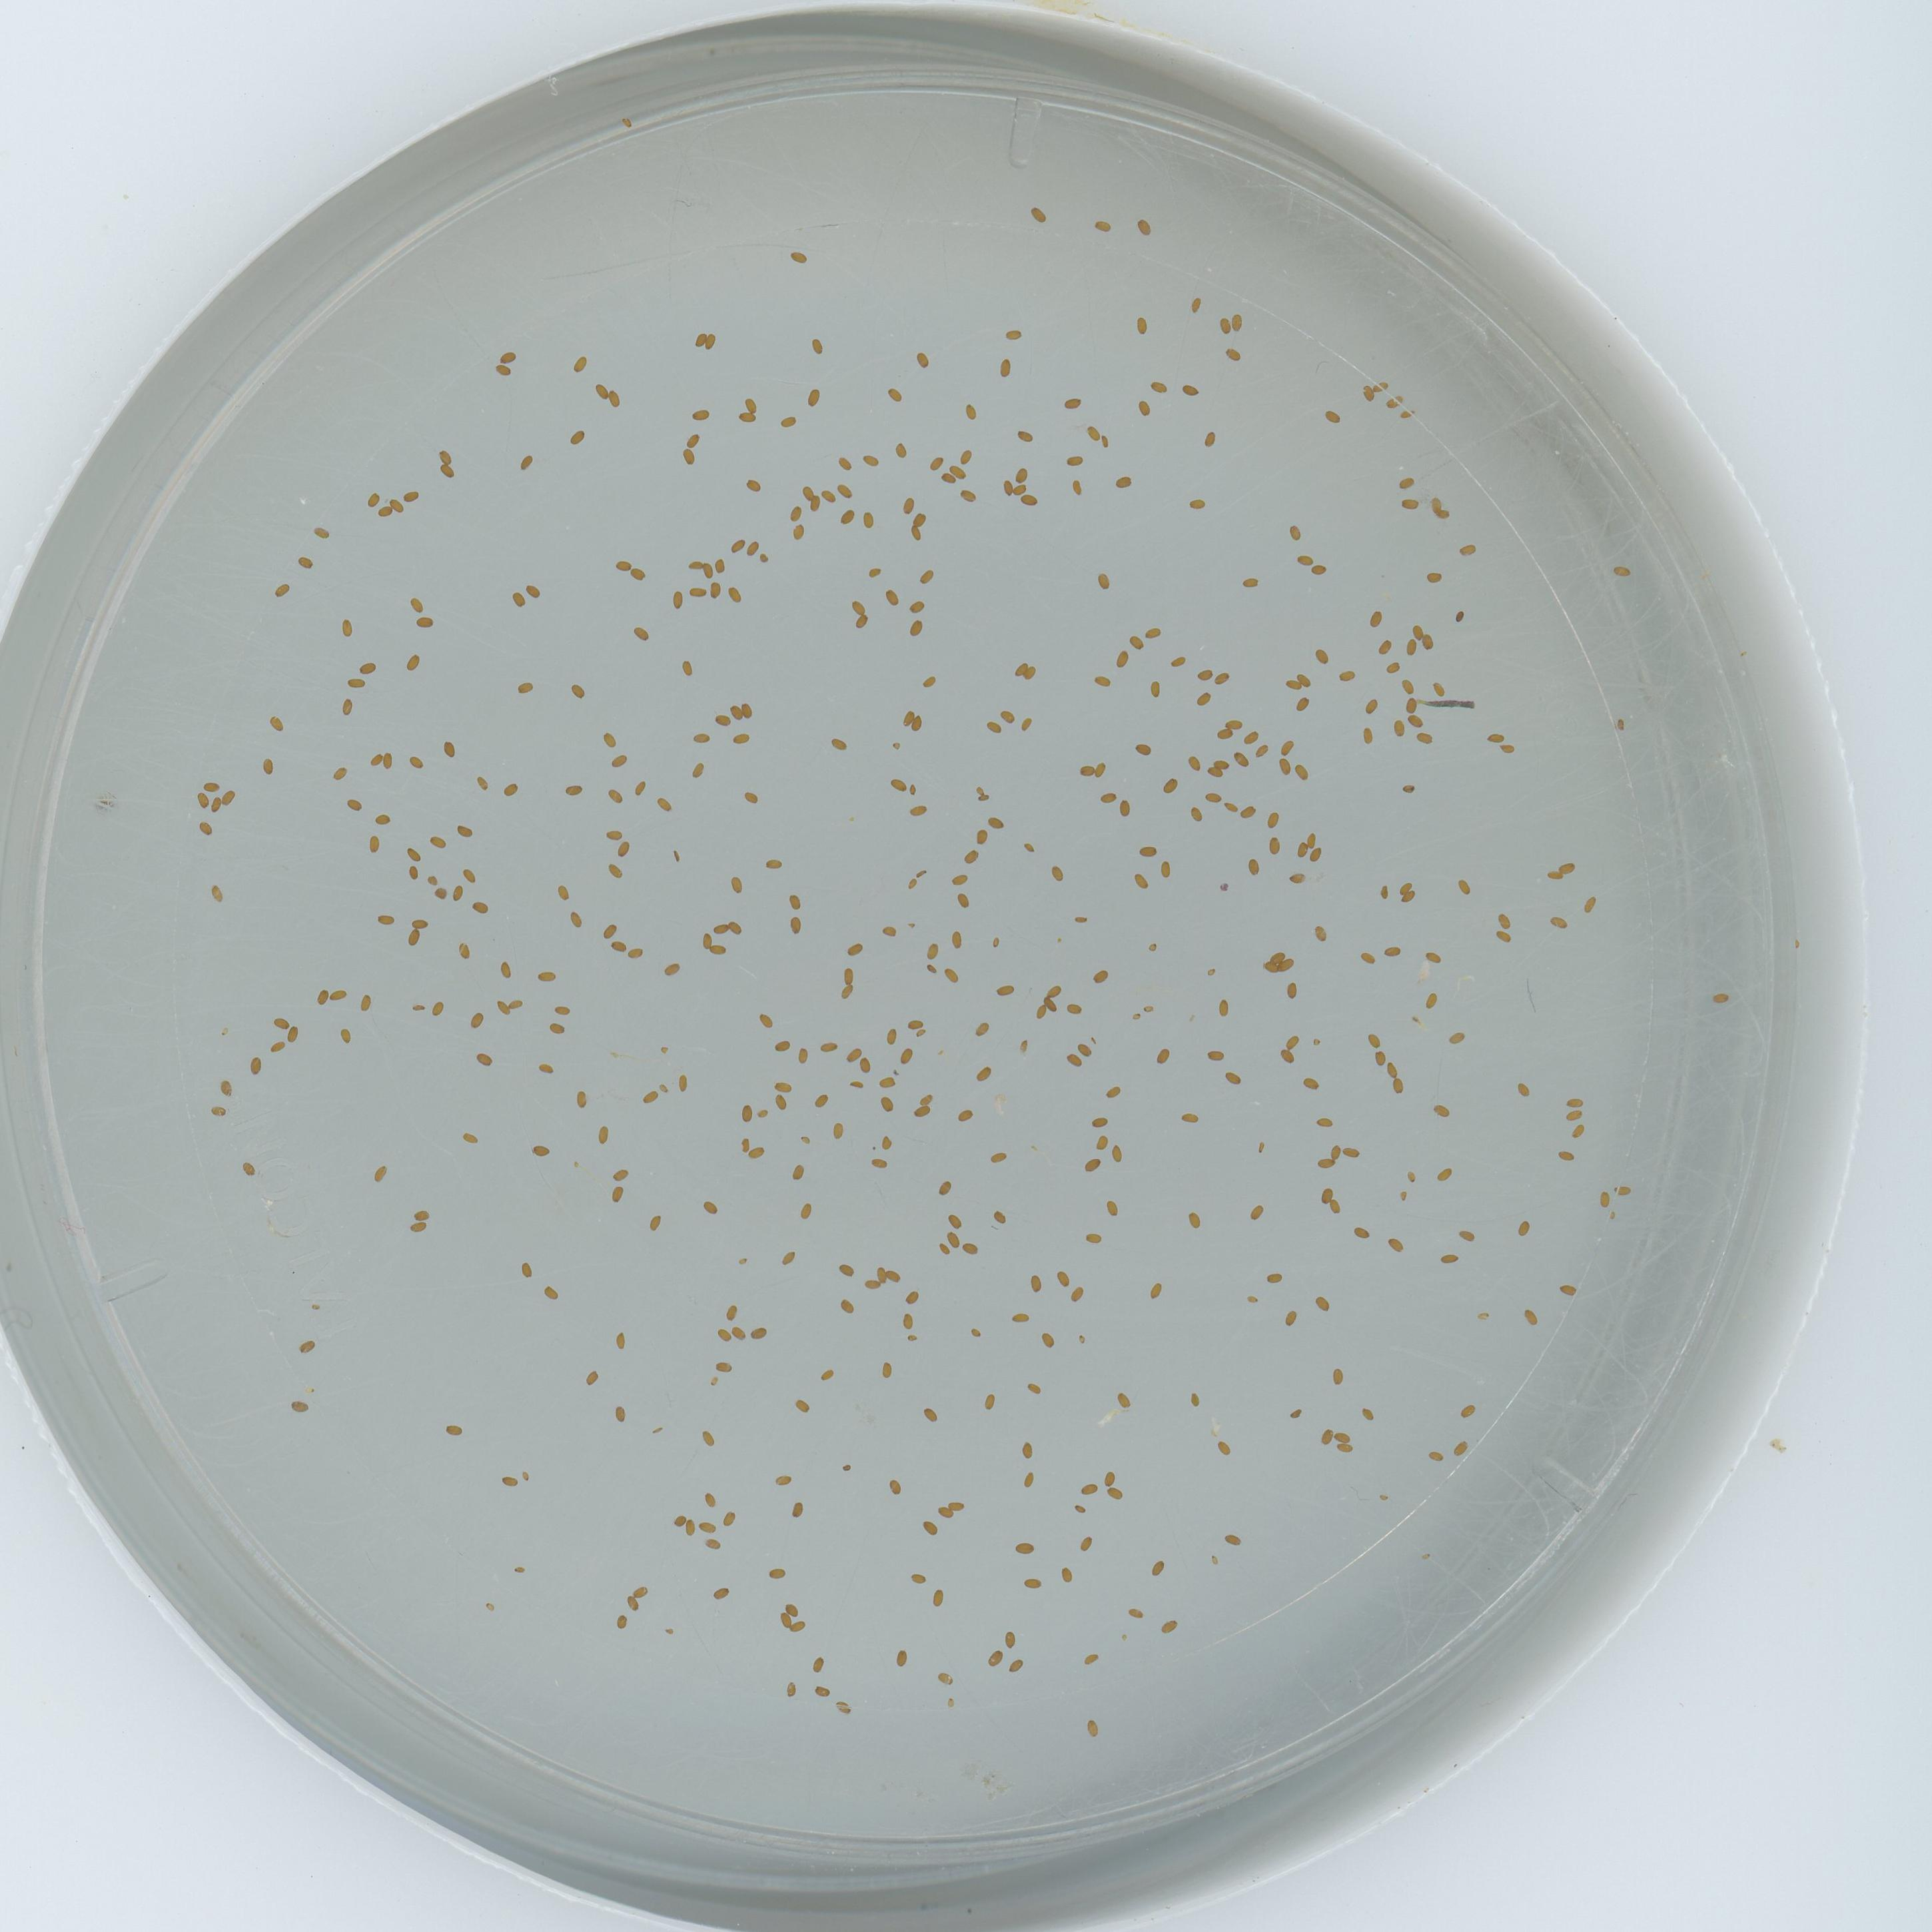seed: (786, 892, 807, 911), (218, 1077, 237, 1099), (288, 1394, 310, 1414), (955, 1106, 977, 1125), (1228, 748, 1249, 768), (1026, 202, 1046, 223), (471, 897, 490, 916), (568, 426, 587, 446), (787, 502, 807, 522), (906, 617, 925, 637), (531, 1139, 550, 1159), (674, 1074, 694, 1093), (1134, 396, 1154, 416), (1111, 649, 1131, 669), (1115, 798, 1134, 817), (975, 1063, 994, 1083), (1076, 1039, 1095, 1058), (414, 614, 435, 632), (957, 446, 975, 467), (246, 1053, 262, 1076), (957, 488, 980, 504), (405, 596, 425, 614), (357, 660, 377, 678), (632, 625, 651, 642), (564, 780, 584, 798), (885, 587, 904, 605), (727, 878, 747, 895), (805, 387, 824, 405), (862, 510, 879, 529), (791, 246, 810, 264), (403, 655, 423, 672), (787, 915, 805, 934), (954, 890, 971, 909), (879, 1134, 899, 1152), (713, 1583, 731, 1603), (1265, 837, 1284, 855), (1146, 377, 1166, 395), (1159, 777, 1178, 794), (996, 356, 1014, 375), (1131, 315, 1150, 333), (962, 849, 982, 867), (1076, 761, 1093, 780), (1079, 1479, 1099, 1497), (1522, 1307, 1541, 1325), (1053, 1269, 1072, 1286), (1148, 1557, 1166, 1576), (1152, 1044, 1171, 1062), (1024, 1274, 1042, 1293), (1612, 1182, 1633, 1198), (600, 920, 617, 938), (901, 495, 918, 513), (410, 913, 428, 931), (605, 824, 623, 842), (338, 699, 356, 717), (570, 683, 587, 701), (363, 837, 380, 855), (524, 582, 541, 600), (610, 936, 628, 954), (591, 380, 609, 398), (600, 731, 617, 748), (258, 759, 276, 777), (832, 736, 849, 754), (439, 741, 456, 759), (566, 909, 584, 927), (191, 793, 209, 810), (727, 586, 745, 603), (571, 354, 589, 372), (692, 405, 709, 423), (950, 462, 968, 479), (902, 1286, 920, 1304), (356, 993, 373, 1010), (775, 1035, 793, 1053), (720, 1509, 738, 1527), (893, 1649, 911, 1667), (773, 1092, 791, 1109), (775, 1076, 793, 1093), (839, 1295, 856, 1313), (731, 1322, 748, 1339), (372, 1164, 389, 1182), (474, 1047, 492, 1065), (929, 1589, 947, 1606), (879, 1093, 897, 1111), (724, 1302, 741, 1320), (518, 1260, 536, 1277), (1311, 648, 1329, 665), (973, 828, 991, 846), (1012, 464, 1030, 481), (1132, 872, 1150, 890), (1338, 667, 1355, 685), (1047, 865, 1065, 883), (1093, 571, 1111, 589), (1143, 623, 1161, 640), (1495, 911, 1513, 929), (1359, 727, 1376, 745), (1246, 860, 1263, 878), (1125, 633, 1143, 651), (1293, 695, 1311, 713), (1003, 324, 1021, 341), (1062, 393, 1079, 410), (1341, 1141, 1359, 1159), (1224, 1530, 1242, 1548), (1083, 1154, 1100, 1171), (1104, 1484, 1122, 1502), (1145, 1281, 1162, 1299), (1115, 1389, 1132, 1407), (1458, 1224, 1476, 1242), (1019, 1440, 1037, 1458), (1083, 1720, 1100, 1737), (1076, 1534, 1093, 1552), (985, 1649, 1003, 1667), (1329, 1366, 1346, 1384), (1447, 1026, 1465, 1044), (1092, 1132, 1109, 1150), (991, 1207, 1008, 1224), (621, 115, 639, 133), (731, 731, 750, 747), (515, 679, 534, 695), (839, 508, 858, 524), (338, 617, 354, 637), (614, 842, 633, 858), (403, 846, 423, 862), (405, 929, 421, 948), (920, 1520, 939, 1536), (885, 1026, 904, 1042), (897, 1047, 916, 1063), (663, 961, 683, 977), (285, 1024, 301, 1044), (844, 1044, 863, 1060), (814, 1092, 833, 1108), (740, 1102, 755, 1122), (945, 1231, 961, 1251), (998, 708, 1017, 724), (1240, 729, 1260, 745), (1138, 842, 1157, 858), (1014, 426, 1033, 442), (1550, 913, 1569, 929), (1394, 474, 1414, 490), (1113, 472, 1132, 488), (1398, 678, 1417, 694), (1014, 1539, 1033, 1555), (1214, 1438, 1233, 1454), (1205, 1044, 1224, 1060), (1054, 1566, 1074, 1582), (1159, 1617, 1178, 1633), (1001, 1629, 1017, 1649), (1557, 1279, 1576, 1295), (1385, 1237, 1405, 1253), (347, 678, 370, 690), (202, 778, 219, 794), (679, 449, 697, 465), (694, 729, 711, 745), (888, 386, 906, 402), (437, 448, 455, 464), (375, 810, 393, 826), (345, 796, 363, 812), (295, 554, 313, 570), (883, 922, 901, 938), (499, 347, 517, 363), (890, 777, 908, 793), (671, 591, 686, 609), (269, 717, 287, 732), (407, 754, 425, 770), (743, 396, 761, 412), (377, 909, 395, 925), (510, 593, 527, 609), (272, 582, 290, 598), (403, 865, 421, 881), (679, 660, 697, 676), (916, 568, 934, 584), (867, 564, 885, 580), (656, 796, 674, 812), (610, 754, 628, 770), (460, 869, 478, 885), (837, 483, 855, 499), (780, 412, 798, 428), (449, 886, 467, 902), (195, 821, 212, 837), (766, 856, 784, 872), (847, 939, 865, 955), (607, 789, 625, 805), (715, 713, 732, 729), (747, 478, 764, 494), (699, 932, 715, 950), (685, 432, 702, 448), (428, 833, 446, 849), (455, 823, 472, 839), (439, 464, 456, 479), (455, 943, 472, 959), (708, 580, 724, 598), (607, 863, 625, 879), (607, 389, 623, 407), (909, 715, 927, 731), (311, 524, 329, 540), (823, 488, 840, 504), (948, 931, 964, 948), (908, 524, 924, 541), (446, 1421, 462, 1438), (789, 1162, 807, 1178), (770, 1566, 787, 1582), (858, 1056, 876, 1072), (699, 1516, 717, 1532), (501, 1472, 518, 1488), (715, 1359, 732, 1375), (428, 998, 446, 1014), (872, 1154, 890, 1169), (881, 1072, 899, 1088), (901, 1313, 918, 1329), (609, 1185, 626, 1201), (906, 1014, 924, 1030), (625, 1594, 640, 1612), (699, 1431, 717, 1447), (821, 1037, 839, 1053), (782, 1247, 798, 1265), (798, 1201, 816, 1217), (612, 1405, 628, 1422), (612, 1166, 630, 1182), (922, 1405, 939, 1421), (812, 1656, 828, 1674), (271, 1014, 288, 1030), (642, 1088, 660, 1104), (839, 1260, 856, 1276), (918, 1090, 936, 1106), (575, 1088, 591, 1106), (759, 1012, 777, 1028), (879, 1361, 895, 1378), (791, 1500, 807, 1518), (715, 1325, 732, 1341), (702, 1198, 720, 1214), (819, 1366, 837, 1382), (794, 1394, 810, 1412), (941, 966, 959, 982), (594, 1125, 612, 1141), (299, 1336, 317, 1352), (798, 1131, 816, 1146), (1288, 872, 1306, 888), (1376, 639, 1394, 655), (1063, 451, 1081, 467), (1099, 789, 1116, 805), (1194, 690, 1212, 706), (1196, 665, 1214, 681), (1083, 425, 1099, 442), (1263, 812, 1281, 828), (1274, 759, 1292, 775), (1295, 550, 1313, 566), (1185, 807, 1203, 823), (1224, 345, 1242, 361), (1486, 729, 1504, 745), (1375, 885, 1392, 901), (1311, 924, 1327, 941), (1203, 791, 1221, 807), (1384, 941, 1401, 957), (1407, 713, 1424, 729), (1426, 568, 1444, 584), (1185, 755, 1203, 771), (985, 718, 1003, 734), (1155, 862, 1173, 878), (1415, 731, 1433, 747), (1187, 495, 1205, 511), (987, 816, 1005, 832), (1456, 879, 1472, 897), (1238, 803, 1256, 819), (1384, 660, 1401, 676), (1276, 740, 1293, 755), (1458, 541, 1476, 557), (1283, 678, 1300, 694), (1224, 715, 1242, 731), (1145, 681, 1162, 697), (1495, 929, 1513, 945), (1253, 743, 1270, 759), (1323, 407, 1341, 423), (1292, 764, 1309, 780), (1132, 218, 1150, 234), (1566, 1092, 1583, 1108), (1007, 1660, 1024, 1675), (1283, 1033, 1300, 1049), (1100, 1198, 1118, 1214), (1021, 1470, 1039, 1486), (1023, 1576, 1040, 1592), (1451, 1440, 1468, 1456), (1458, 1403, 1476, 1419), (1369, 1049, 1387, 1065), (1313, 1293, 1330, 1309), (996, 982, 1014, 998), (1223, 1067, 1240, 1083), (1300, 1074, 1318, 1090), (1023, 1378, 1040, 1394), (1070, 1500, 1088, 1516), (1010, 1307, 1028, 1323), (1180, 1108, 1198, 1123), (1081, 1651, 1099, 1667), (1440, 1251, 1458, 1267), (1283, 982, 1300, 998), (1099, 1470, 1116, 1486), (1596, 1191, 1614, 1207), (1083, 1228, 1100, 1244), (1437, 1164, 1454, 1180), (1247, 1203, 1265, 1219), (1037, 1330, 1054, 1346), (1422, 993, 1440, 1008), (1384, 1060, 1401, 1076), (1185, 1210, 1201, 1228), (1389, 1076, 1405, 1093), (1514, 1219, 1532, 1235), (1315, 1113, 1332, 1129), (1214, 996, 1230, 1014), (1072, 913, 1090, 929), (1017, 840, 1035, 856), (1426, 495, 1444, 511), (1435, 508, 1453, 524), (1017, 1039, 1033, 1056), (950, 872, 970, 886), (709, 941, 729, 955), (1260, 961, 1281, 973), (911, 803, 927, 819), (908, 598, 924, 614), (632, 780, 648, 796), (729, 538, 745, 554), (495, 361, 511, 377), (432, 885, 448, 901), (502, 782, 518, 798), (474, 775, 490, 791), (741, 702, 757, 718), (364, 490, 380, 506), (929, 453, 945, 469), (518, 453, 534, 469), (810, 338, 826, 354), (556, 886, 571, 902), (747, 540, 763, 556), (922, 674, 938, 690), (893, 442, 909, 458), (630, 566, 646, 582), (911, 511, 927, 527), (706, 333, 722, 349), (729, 918, 745, 934), (793, 524, 809, 540), (924, 943, 939, 959), (839, 455, 855, 471), (855, 614, 870, 630), (915, 350, 931, 366), (692, 763, 708, 778), (800, 483, 816, 499), (331, 985, 347, 1001), (614, 1614, 630, 1629), (554, 1001, 570, 1017), (462, 1127, 478, 1143), (313, 989, 329, 1005), (471, 1012, 487, 1028), (648, 1214, 663, 1230), (936, 1178, 952, 1194), (548, 1019, 564, 1035), (738, 1136, 754, 1152), (909, 1571, 925, 1587), (947, 1212, 962, 1228), (888, 1479, 904, 1495), (612, 1330, 628, 1346), (796, 1046, 812, 1062), (706, 1536, 722, 1552), (211, 1100, 226, 1116), (936, 1670, 952, 1686), (241, 1159, 257, 1175), (750, 1323, 766, 1339), (338, 1026, 354, 1042), (633, 1582, 649, 1598), (495, 1000, 511, 1016), (842, 968, 858, 984), (784, 1683, 800, 1698), (702, 1491, 718, 1507), (538, 1058, 554, 1074), (755, 1104, 771, 1120), (543, 1283, 559, 1299), (777, 1470, 793, 1486), (1093, 672, 1109, 688), (1362, 699, 1378, 715), (1453, 607, 1468, 623), (1286, 525, 1302, 541), (1421, 633, 1437, 649), (1403, 640, 1419, 656), (1361, 386, 1376, 402), (1292, 842, 1307, 858), (1242, 573, 1258, 589), (1214, 671, 1230, 686), (1230, 313, 1246, 329), (1017, 717, 1033, 732), (1304, 833, 1320, 849), (1200, 432, 1215, 448), (1134, 741, 1150, 757), (1093, 216, 1109, 232), (1560, 860, 1576, 876), (1092, 761, 1108, 777), (1368, 612, 1384, 628), (1580, 895, 1596, 911), (1297, 671, 1313, 686), (987, 934, 1003, 950), (1384, 395, 1399, 410), (1279, 957, 1295, 973), (1316, 1187, 1332, 1203), (1366, 1031, 1382, 1047), (1109, 1145, 1125, 1161), (1433, 1100, 1449, 1116), (1325, 1141, 1341, 1157), (975, 1019, 991, 1035), (1092, 968, 1108, 984), (1316, 1428, 1332, 1444), (1104, 1083, 1120, 1099), (1090, 1111, 1106, 1127), (1069, 1284, 1085, 1300), (1125, 1605, 1141, 1621), (1283, 1309, 1299, 1325), (1185, 1391, 1201, 1407), (991, 1146, 1007, 1162), (1063, 1051, 1079, 1067), (510, 1560, 525, 1576), (1476, 1309, 1491, 1325), (1246, 1293, 1261, 1309), (1614, 563, 1629, 579), (916, 1026, 932, 1042), (402, 488, 419, 502), (851, 600, 869, 614), (713, 920, 731, 934), (207, 886, 225, 901), (901, 709, 915, 727), (331, 766, 349, 780), (688, 586, 706, 600), (364, 754, 382, 768), (410, 1219, 428, 1233), (267, 1037, 285, 1051), (412, 1205, 430, 1219), (913, 1104, 931, 1118), (538, 968, 556, 982), (936, 1506, 954, 1520), (849, 1076, 867, 1090), (837, 1702, 855, 1716), (1399, 497, 1417, 511), (1424, 948, 1442, 962), (1499, 741, 1516, 755), (1389, 722, 1407, 736), (1215, 315, 1230, 333), (1307, 849, 1325, 863), (1207, 766, 1224, 780), (1065, 479, 1083, 494), (1359, 948, 1376, 962), (1215, 729, 1233, 743), (1180, 382, 1198, 396), (1169, 655, 1187, 669), (1221, 801, 1238, 816), (1545, 870, 1562, 885), (1044, 982, 1062, 996), (1316, 1155, 1334, 1169), (1353, 1224, 1371, 1238), (1279, 1047, 1293, 1065), (1564, 1106, 1582, 1120), (1265, 1270, 1283, 1284), (1568, 1122, 1585, 1136), (1713, 989, 1730, 1003), (832, 1120, 844, 1139), (874, 1263, 886, 1283), (1212, 757, 1231, 770), (1001, 478, 1014, 497), (616, 557, 632, 571), (423, 874, 439, 888), (628, 945, 644, 959), (863, 453, 879, 467), (729, 704, 743, 720), (694, 331, 708, 347), (743, 791, 759, 805), (219, 791, 235, 805), (380, 754, 395, 770), (389, 499, 405, 513), (686, 556, 702, 570), (699, 563, 715, 577), (740, 410, 755, 425), (508, 996, 524, 1010), (586, 1369, 602, 1384), (777, 1614, 793, 1628), (672, 1511, 686, 1527), (948, 1497, 964, 1511), (816, 1684, 832, 1698), (791, 1621, 807, 1635), (839, 984, 855, 998), (888, 1269, 904, 1283), (787, 1601, 801, 1617), (750, 1145, 766, 1159), (685, 1520, 699, 1536), (936, 1238, 950, 1254), (410, 1000, 426, 1014), (1401, 699, 1417, 713), (1021, 494, 1037, 508), (1187, 295, 1203, 310), (966, 405, 980, 421), (1408, 623, 1424, 637), (1311, 563, 1327, 577), (1430, 681, 1445, 695), (1269, 948, 1284, 962), (1024, 663, 1039, 679), (1375, 377, 1391, 391), (1359, 1407, 1375, 1421), (1559, 1146, 1575, 1161), (1516, 1081, 1532, 1095), (1327, 1198, 1343, 1212), (1334, 1428, 1350, 1442), (1403, 1168, 1419, 1182), (1065, 1000, 1081, 1014), (1428, 1447, 1444, 1461), (1044, 998, 1060, 1012), (1286, 1405, 1302, 1419), (982, 1394, 998, 1408), (1031, 1003, 1047, 1017), (1074, 1330, 1088, 1346), (1208, 1553, 1223, 1569), (1605, 1208, 1619, 1224), (922, 961, 938, 975), (939, 472, 957, 485), (1401, 892, 1419, 904), (207, 798, 221, 812), (715, 557, 729, 571), (377, 504, 391, 518), (904, 782, 918, 796), (810, 497, 824, 511), (906, 878, 920, 892), (499, 966, 513, 980), (658, 1081, 672, 1095), (906, 1330, 920, 1345), (1012, 662, 1026, 676), (1614, 718, 1628, 732), (1099, 433, 1113, 448), (968, 1325, 982, 1339), (966, 1242, 980, 1256), (483, 1599, 497, 1614), (943, 1697, 957, 1711), (1399, 407, 1414, 421), (1401, 782, 1415, 796), (865, 1277, 881, 1290), (1012, 481, 1028, 494), (1336, 1444, 1352, 1456), (1145, 1001, 1157, 1017), (1131, 1008, 1143, 1024), (1205, 966, 1217, 982), (757, 552, 771, 564), (518, 1468, 531, 1483), (1145, 939, 1157, 954), (1398, 883, 1412, 895), (1396, 1187, 1410, 1200), (977, 794, 991, 805), (1419, 1552, 1431, 1562), (1311, 1037, 1322, 1049), (709, 1376, 720, 1389), (975, 786, 985, 796), (1376, 1491, 1387, 1502)
